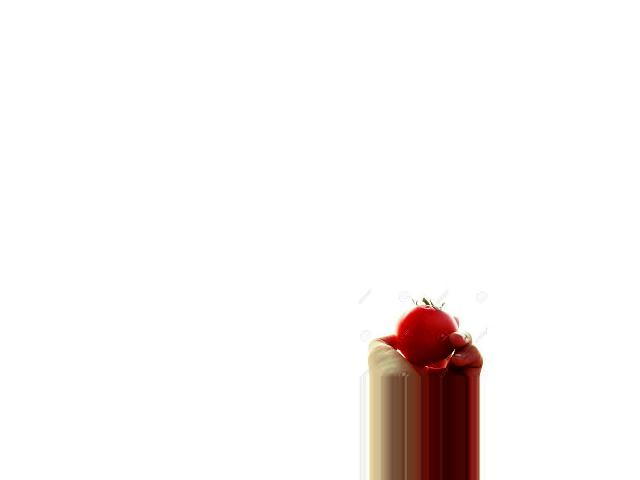tomato: (396, 304, 459, 365)
